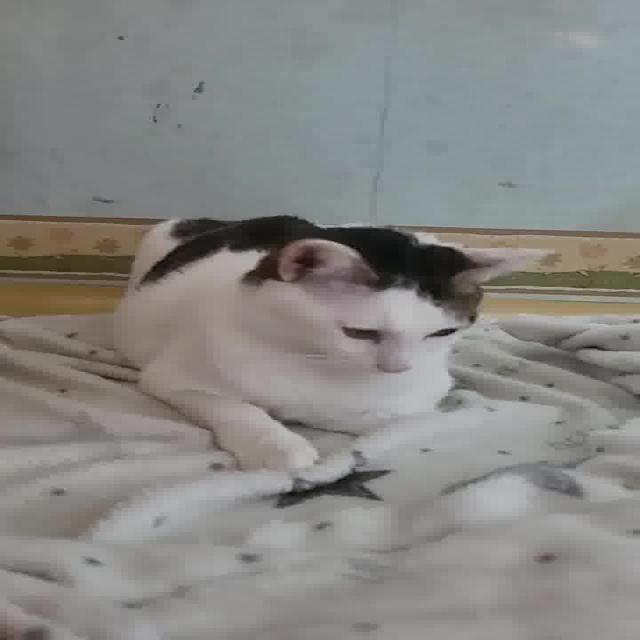cat: (110, 207, 572, 465)
